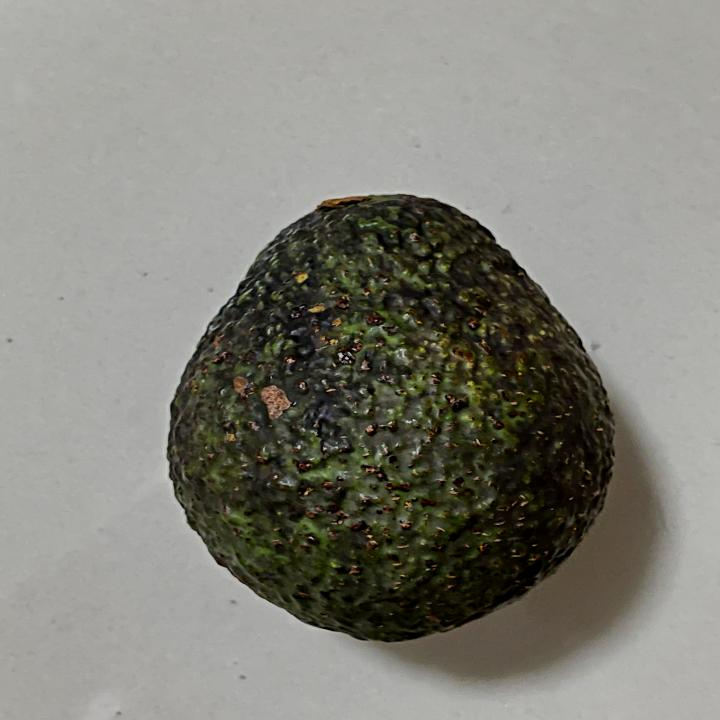Level1: (146, 175, 627, 652)
